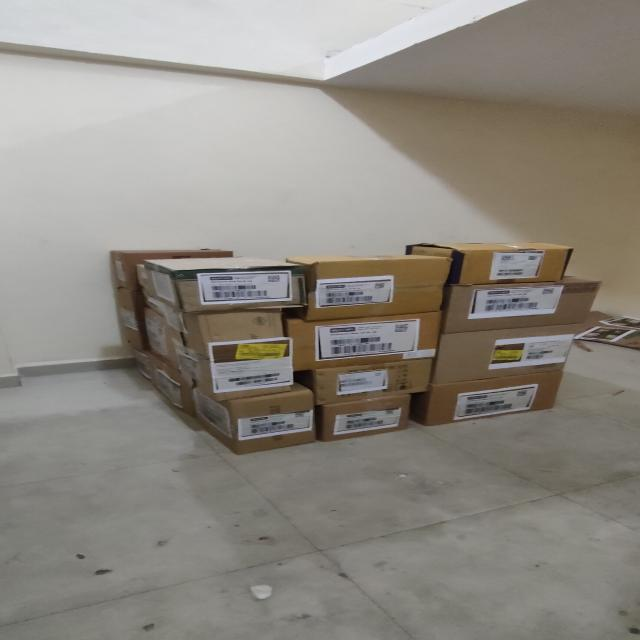BoxFace: (430, 323, 581, 388), (287, 310, 442, 370), (193, 311, 295, 400), (306, 259, 452, 320), (441, 280, 601, 332), (425, 371, 564, 429), (218, 392, 317, 454), (174, 267, 305, 312), (310, 358, 432, 406), (324, 392, 412, 444), (453, 248, 575, 285)
